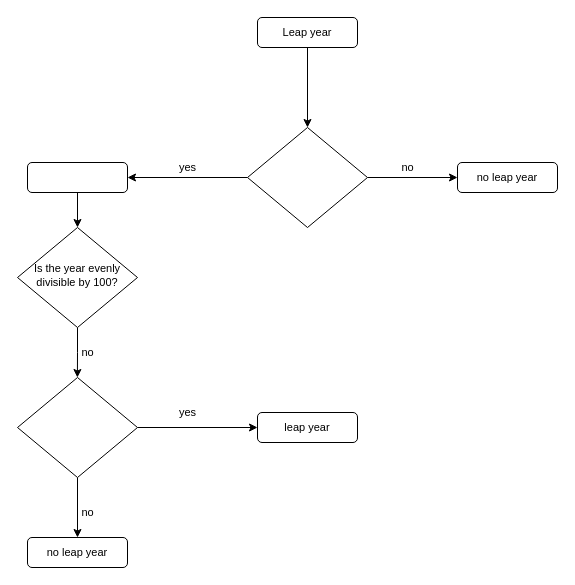
This 575x585 diagram has some shape labels left out. The shapes that lost their labels are listed below. From the top down, each one's box as (x1, y1, x2, y2) in pixels, then its label:
(26, 162, 128, 192): maybe leap year
(246, 126, 368, 228): Is the year evenly divisible by 4?
(16, 376, 138, 478): Is the year evenly divisible by 400?
